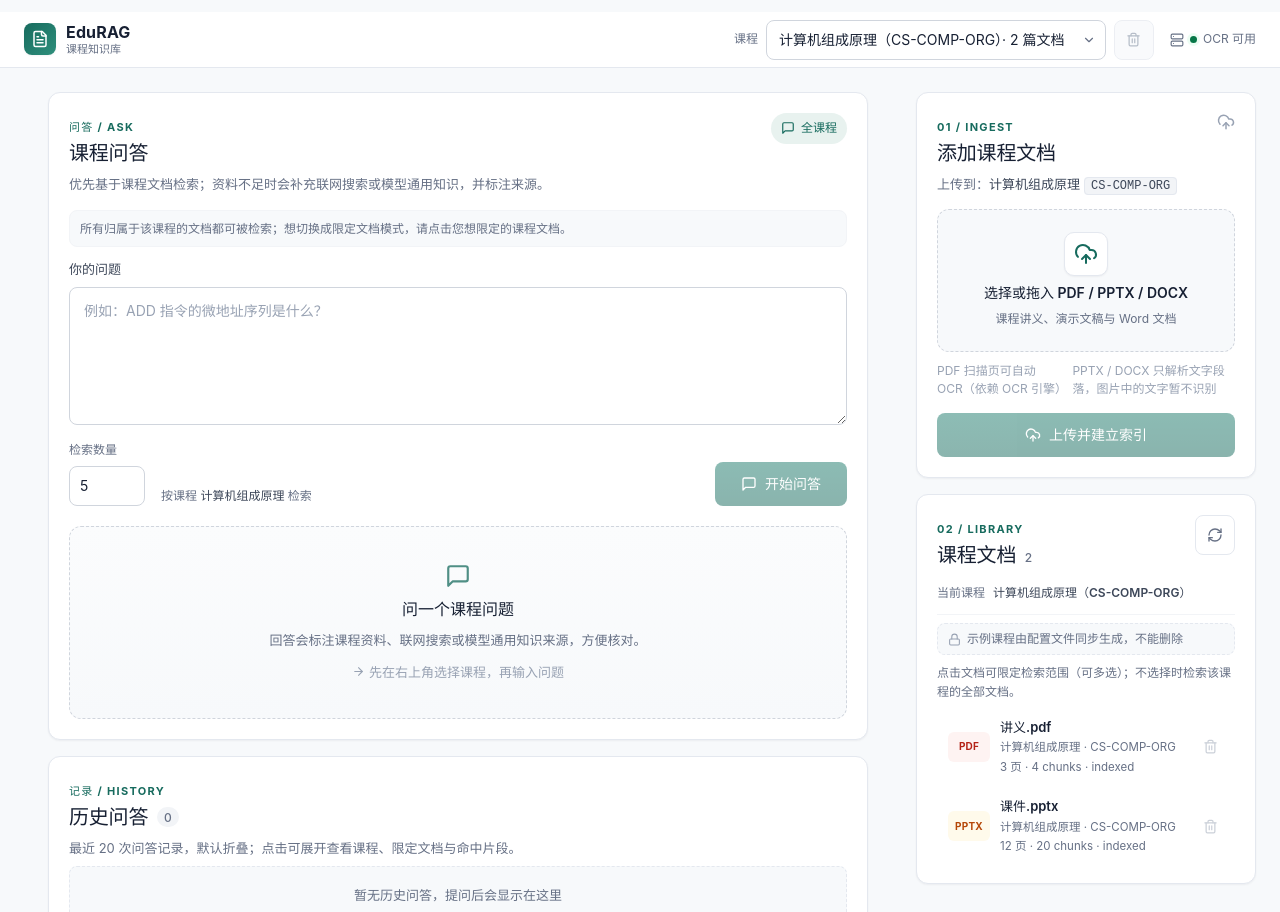
Test: EduRAG 前端工作流 › 手动新建课程：双输入框填写代码与名称，创建前不会用输入值加载文档
Expected: the text "讲义.pdf" is shown, [1000, 719, 1051, 735]
Step 1. Select "+ 手动新建课程…" in the dropdown labelled "课程" → (936, 40), box [766, 20, 1106, 60]
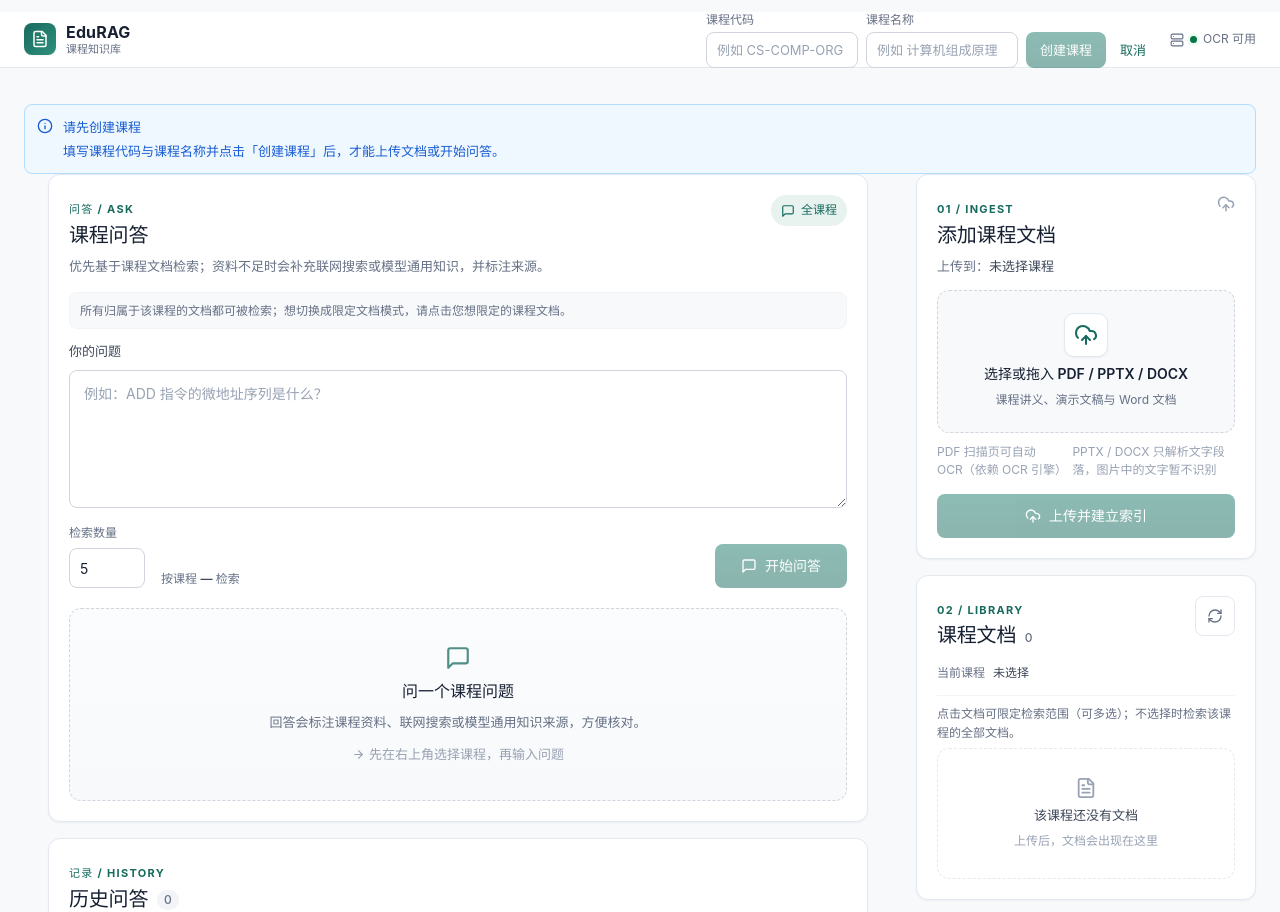
Now the button "创建课程" is disabled, box [1026, 32, 1106, 68]
Step 2. Type "cs-sys" into the field labelled "课程代码" → (782, 50), box [706, 32, 858, 68]
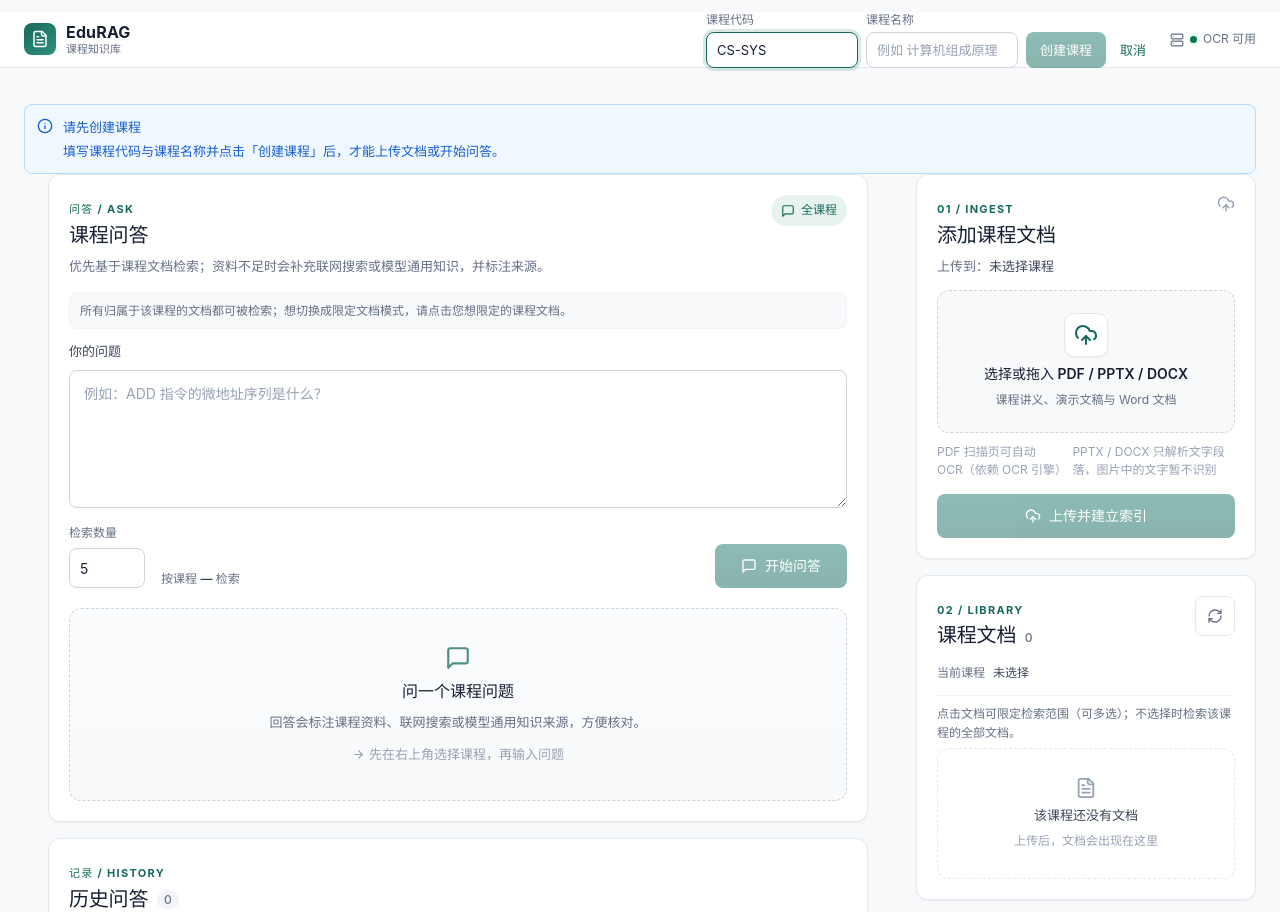
Step 3. Type "计算机系统" into the field labelled "课程名称" → (942, 50), box [866, 32, 1018, 68]
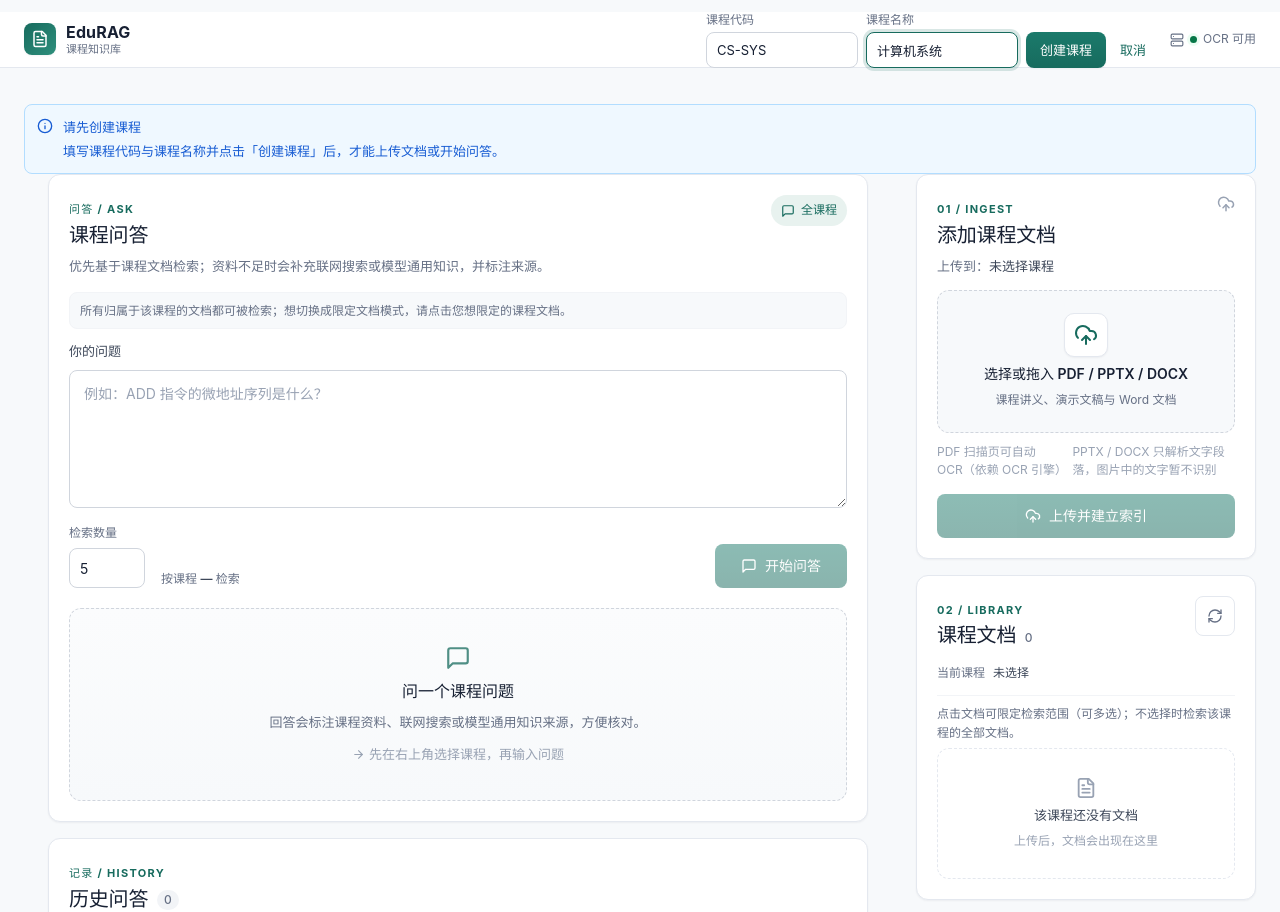
Expected: the button "开始问答" is disabled, [715, 544, 847, 588]
Now the text "请先创建课程" is shown, box [63, 119, 141, 135]
Now the button "创建课程" is enabled, box [1026, 32, 1106, 68]
Step 4. Click the button "取消" → (1133, 50), box [1112, 32, 1154, 68]
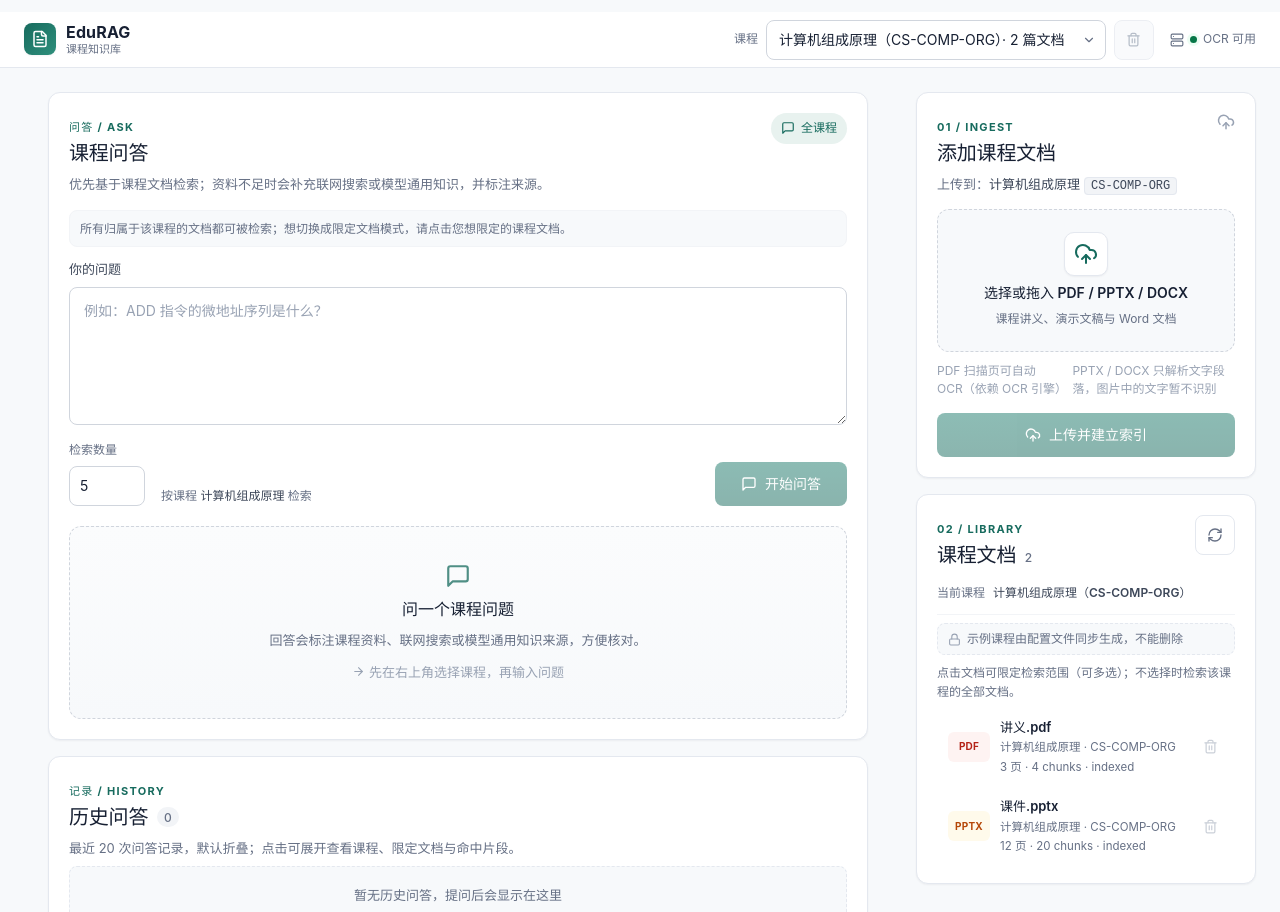
Now the dropdown labelled "课程" shows "计算机组成原理（CS-COMP-ORG）· 2 篇文档", box [766, 20, 1106, 60]
